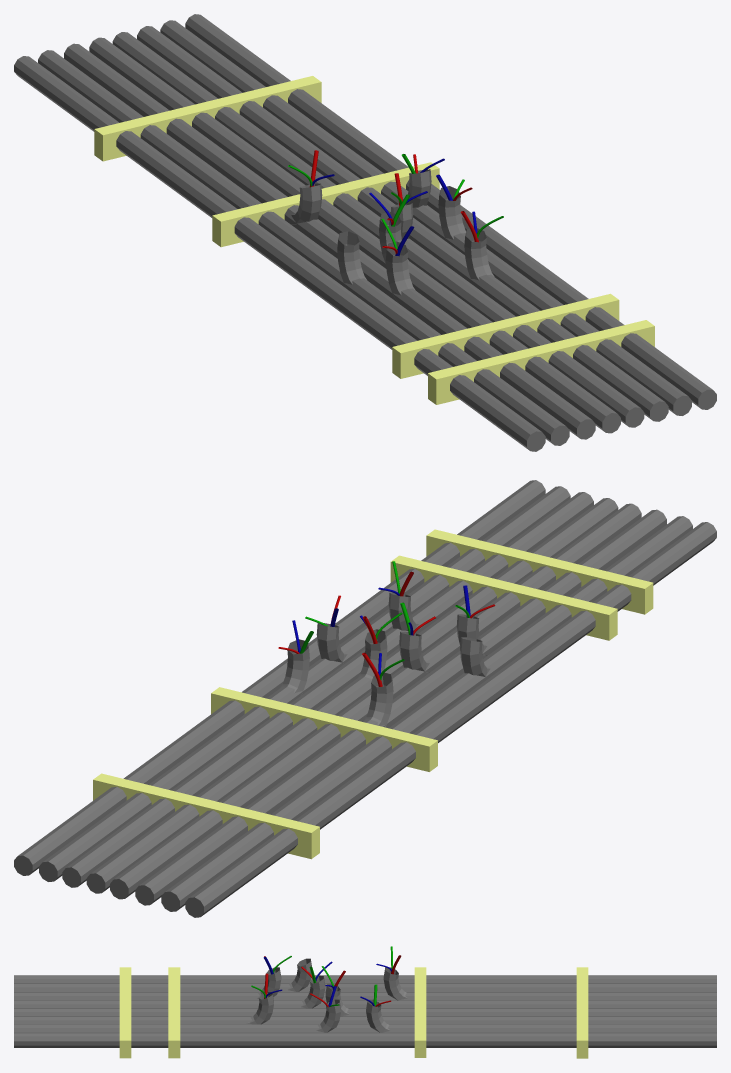
Rendered from Cables_sol1.fbx.
3 renders of one model, top to bottom at view 1: azimuth 30°, elevation 25°; view 2: azimuth 150°, elevation 25°; view 3: azimuth 270°, elevation 25°, orthographic. The views are drawn at different scales.
Parts seen in each view (by area): view 1: Tube3, Tube4, Tube5, Tube6, Tube8, Tube10, Tube7, Tube9, Support_tube11, Support_tube9, Support_tube8, Support_tube10 (+6 smaller); view 2: Tube3, Tube5, Tube4, Tube6, Tube8, Tube10, Tube7, Tube9, Support_tube8, Support_tube11, Support_tube10, Support_tube9 (+7 smaller); view 3: Tube10, Tube9, Tube8, Tube7, Tube6, Tube3, Tube5, Tube4, Support_tube11, Support_tube9, Support_tube8, Support_tube10 (+8 smaller).
Part boxes in pixels (left/top/right/bottom): Tube3: left=14, top=56, right=545, bottom=451; Tube4: left=38, top=50, right=569, bottom=445; Tube5: left=64, top=43, right=595, bottom=439; Tube6: left=89, top=37, right=620, bottom=433; Tube8: left=137, top=26, right=668, bottom=421; Tube10: left=185, top=14, right=716, bottom=409; Tube7: left=112, top=32, right=644, bottom=427; Tube9: left=160, top=20, right=691, bottom=415; Support_tube11: left=94, top=76, right=321, bottom=161; Support_tube9: left=392, top=293, right=619, bottom=378; Support_tube8: left=428, top=320, right=654, bottom=404; Support_tube10: left=212, top=162, right=439, bottom=247; Tube3: left=185, top=522, right=716, bottom=917; Tube5: left=135, top=509, right=666, bottom=905; Tube4: left=161, top=516, right=692, bottom=911; Tube6: left=110, top=503, right=641, bottom=899; Tube8: left=62, top=492, right=593, bottom=887; Tube10: left=14, top=480, right=545, bottom=875; Tube7: left=86, top=498, right=618, bottom=893; Tube9: left=39, top=486, right=570, bottom=881; Support_tube8: left=426, top=529, right=653, bottom=614; Support_tube11: left=93, top=773, right=319, bottom=859; Support_tube10: left=211, top=687, right=437, bottom=771; Support_tube9: left=390, top=555, right=617, bottom=640; Tube10: left=14, top=1032, right=716, bottom=1047; Tube9: left=14, top=1024, right=716, bottom=1032; Tube8: left=14, top=1016, right=716, bottom=1024; Tube7: left=14, top=1008, right=716, bottom=1016; Tube6: left=14, top=1000, right=716, bottom=1008; Tube3: left=14, top=975, right=716, bottom=983; Tube5: left=14, top=992, right=716, bottom=1000; Tube4: left=14, top=983, right=716, bottom=991; Support_tube11: left=576, top=967, right=588, bottom=1058; Support_tube9: left=168, top=967, right=180, bottom=1058; Support_tube8: left=119, top=967, right=131, bottom=1058; Support_tube10: left=414, top=967, right=426, bottom=1057.
Bounding box in the file's own units: 2.46 × 0.9104 × 9.99.
